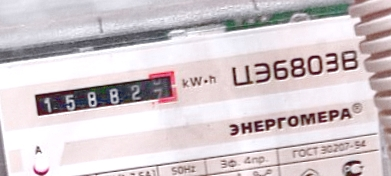1: (42, 95, 54, 114)
2: (129, 82, 142, 100)
5: (63, 93, 77, 111)
7: (152, 86, 164, 100)
8: (86, 89, 98, 107), (108, 87, 120, 104)
screen: (27, 67, 185, 122)
